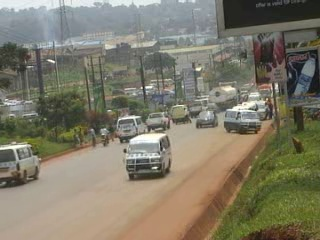Car: (194, 108, 220, 129)
Motorcycle: (99, 123, 112, 149)
